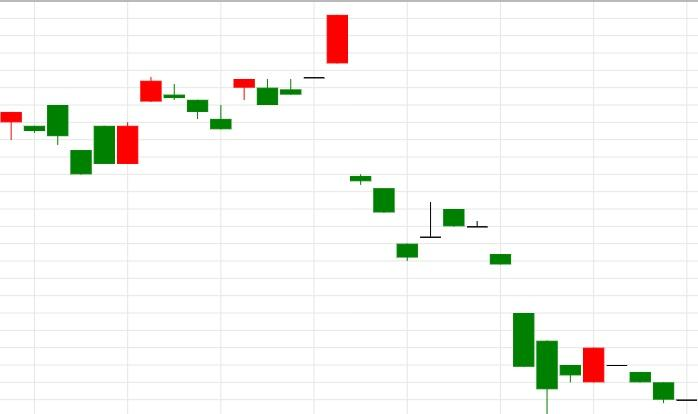bullish_engulfing_rise: (442, 208, 606, 414)
